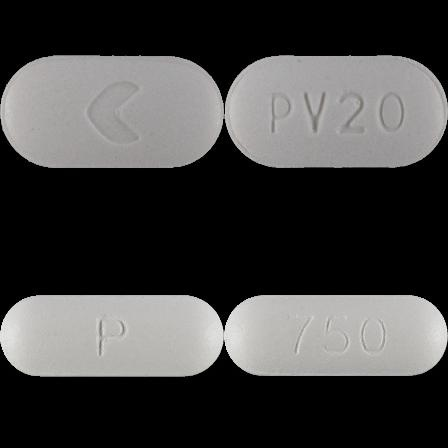61919-731: (0, 0, 224, 224)
